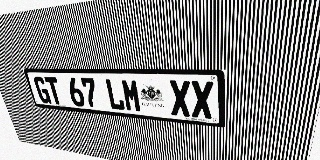6: (66, 77, 86, 107)
7: (79, 78, 100, 108)
G: (33, 76, 52, 104)
L: (104, 78, 125, 111)
M: (121, 79, 142, 112)
T: (44, 77, 64, 105)
X: (190, 81, 213, 119), (169, 80, 191, 117)
